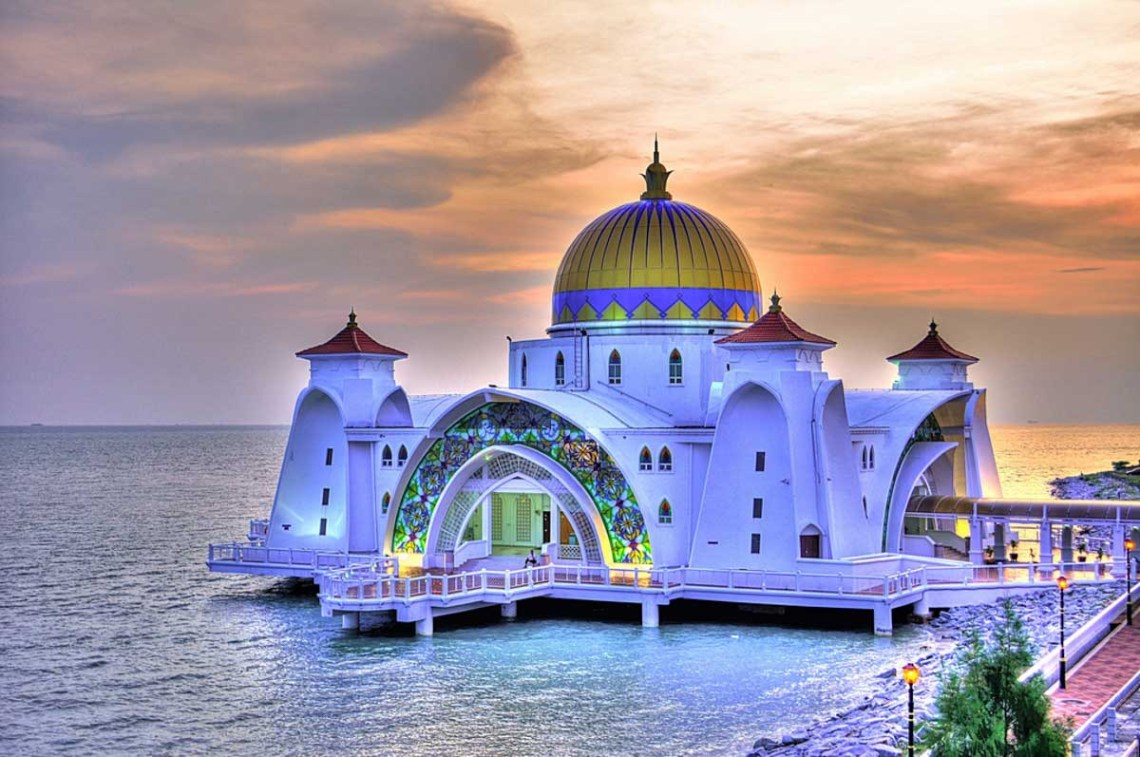Mosque: (271, 113, 1007, 609)
